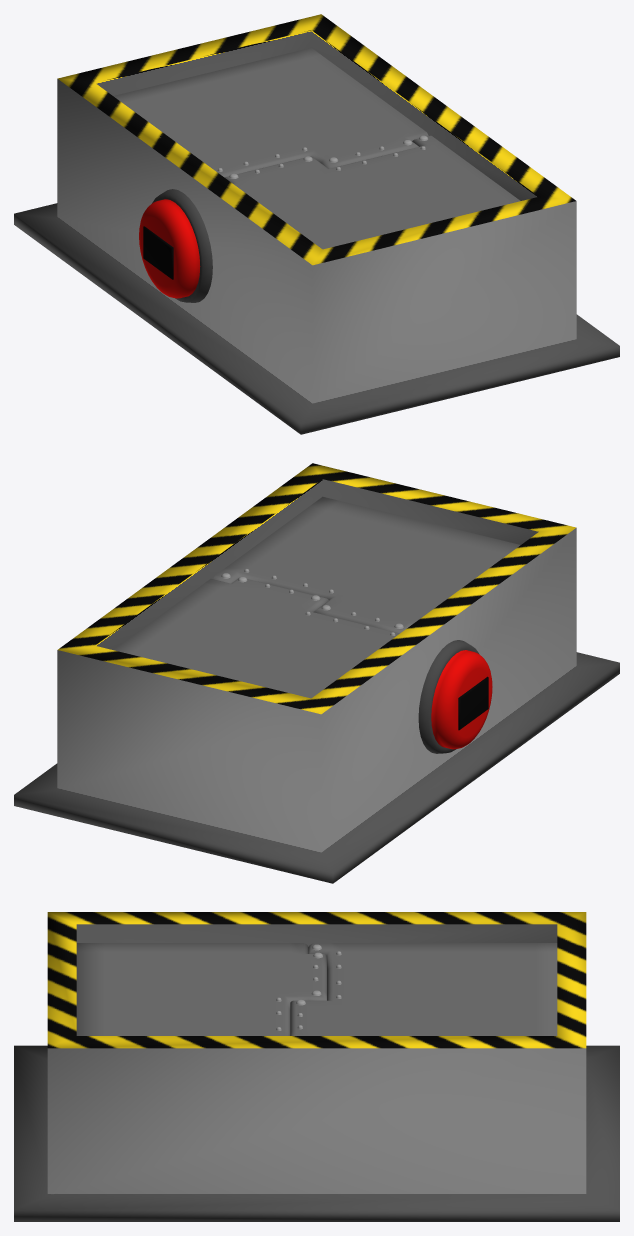
The model's file is SemiCircleBox.fbx.
3 renders of one model, top to bottom at view 1: azimuth 30°, elevation 25°; view 2: azimuth 150°, elevation 25°; view 3: azimuth 270°, elevation 25°, orthographic. The views are drawn at different scales.
Visible parts, largest first — view 1: Cube.022, Cube.023, Cube.024, Cylinder.013; view 2: Cube.022, Cube.024, Cube.023, Cylinder.013; view 3: Cube.022, Cube.023, Cube.024.
Boxes of the visible parts, left/top/right/bottom form: Cube.022: left=14, top=14, right=619, bottom=434; Cube.023: left=113, top=47, right=428, bottom=177; Cube.024: left=224, top=135, right=520, bottom=249; Cylinder.013: left=139, top=199, right=200, bottom=298; Cube.022: left=14, top=463, right=619, bottom=883; Cube.024: left=213, top=496, right=520, bottom=633; Cube.023: left=113, top=577, right=399, bottom=698; Cylinder.013: left=431, top=650, right=492, bottom=749; Cube.022: left=14, top=912, right=619, bottom=1221; Cube.023: left=290, top=943, right=557, bottom=1035; Cube.024: left=76, top=943, right=326, bottom=1035.
Size of the model in its own units: 391 by 177 by 609.
7 materials, 1 textured.
